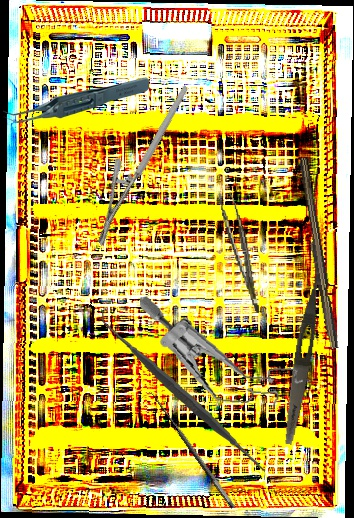Dressing Forceps: (280, 246, 329, 446)
Hook Surgical: (140, 388, 237, 516)
Needle Holder: (58, 84, 229, 248)
Scalpel Handle: (293, 157, 342, 350)
Spatula Surgical: (93, 310, 274, 481)
Speculum: (130, 294, 310, 413)
Tissue Forceps: (3, 76, 149, 123), (218, 188, 260, 316)
